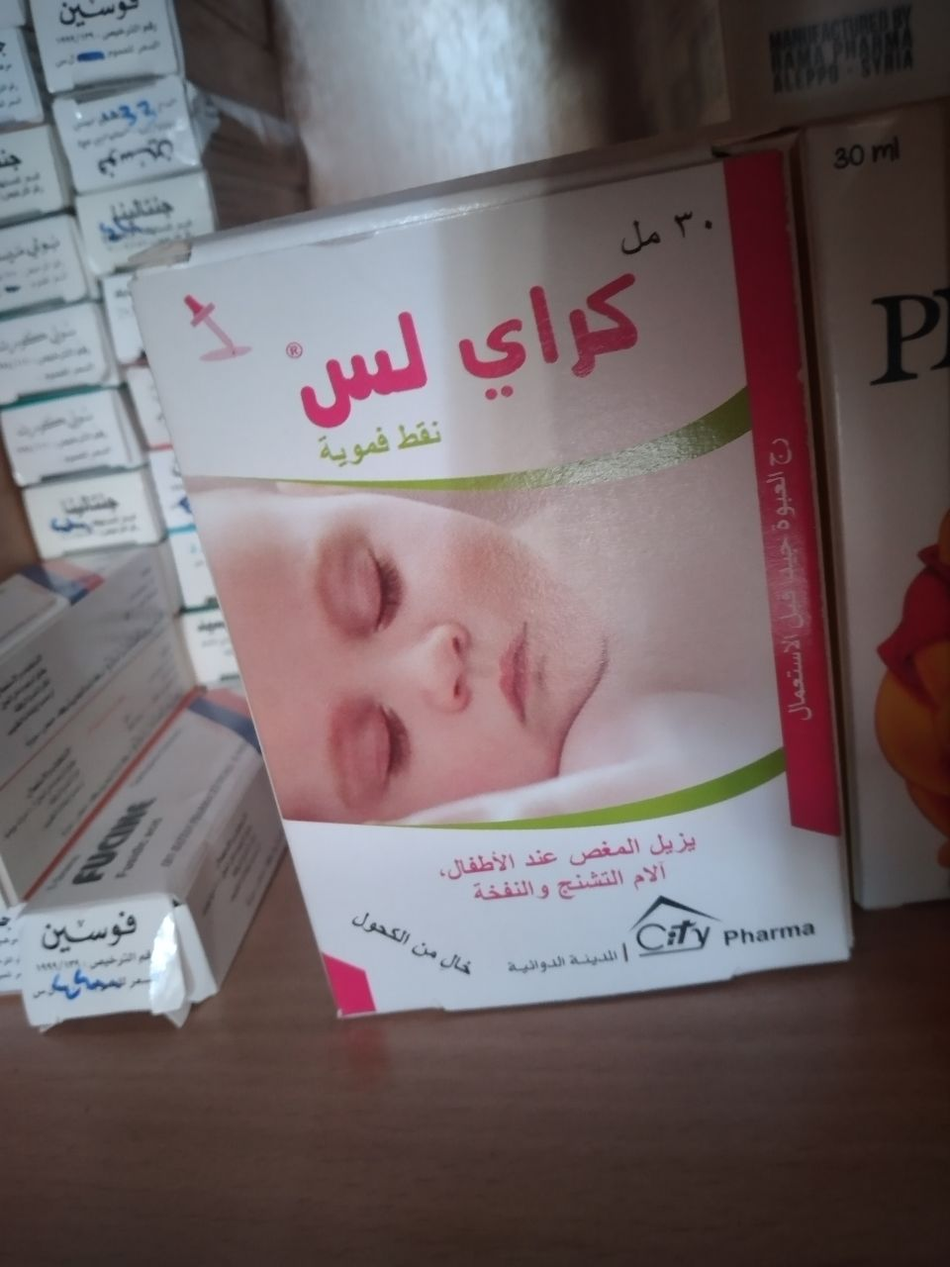Medicine: (96, 158, 877, 1020)
